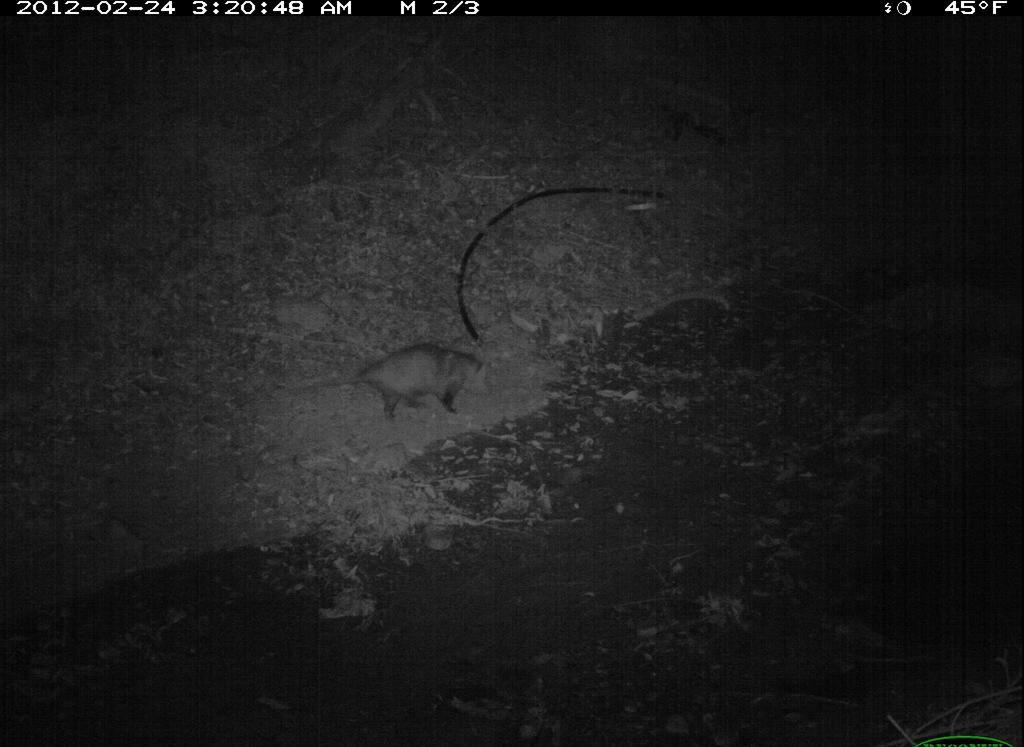opossum: (278, 337, 488, 425)
